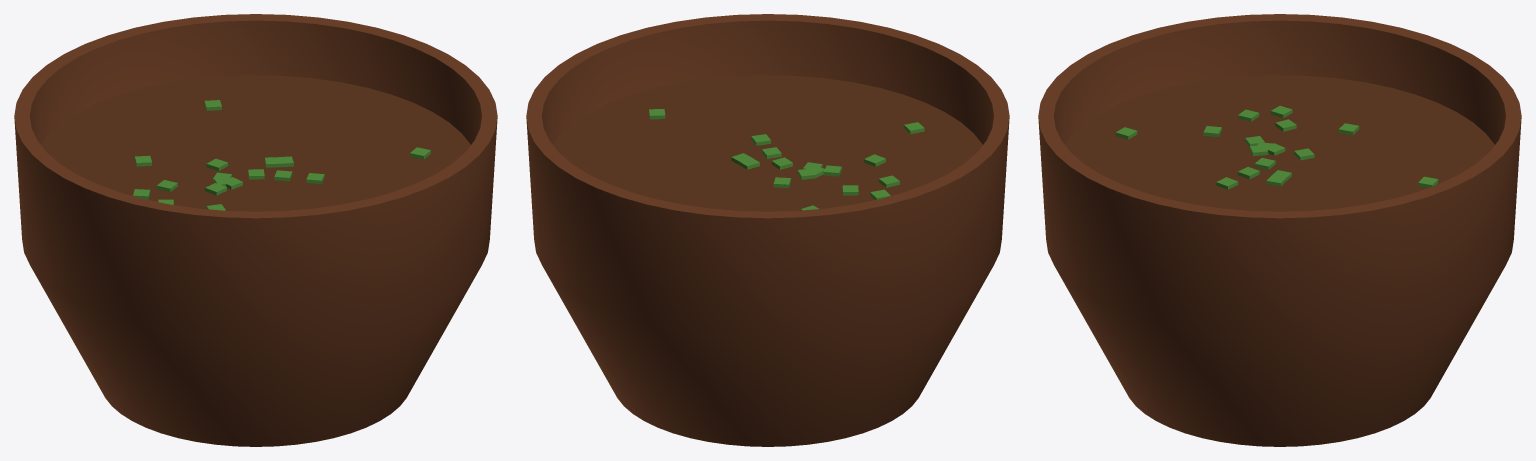
The model's file is caldo.glb.
The picture shows the model from 3 angles, left to right: view 1: azimuth 30°, elevation 25°; view 2: azimuth 150°, elevation 25°; view 3: azimuth 270°, elevation 25°; orthographic projection.
Parts seen in each view (by area): view 1: caldo; view 2: caldo; view 3: caldo.
Boxes of the visible parts, box(x1,y1,x2,y2) form: caldo: box(14, 14, 497, 446); caldo: box(526, 14, 1009, 446); caldo: box(1038, 14, 1521, 446).
Bounding box in the file's own units: 0.124 × 0.075 × 0.124.
